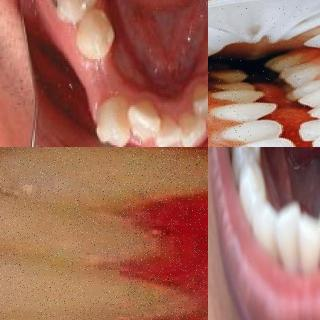calculus: (48, 273, 142, 320), (86, 206, 152, 268)
cavities: (41, 0, 65, 14)
maligned: (0, 146, 200, 211), (91, 98, 135, 141), (126, 101, 168, 144), (228, 117, 280, 147), (296, 208, 320, 271), (185, 78, 208, 138), (280, 193, 302, 255), (155, 115, 181, 147), (299, 116, 320, 147)
